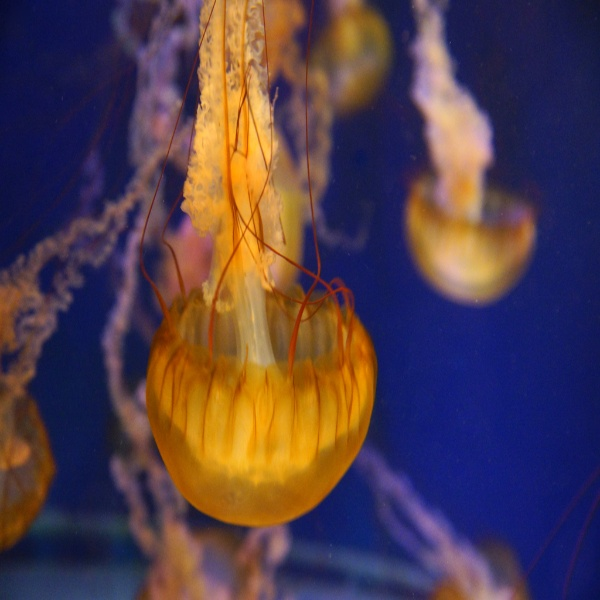Jellyfish: (136, 0, 378, 526), (0, 140, 168, 559), (404, 0, 537, 313), (357, 442, 523, 599)
